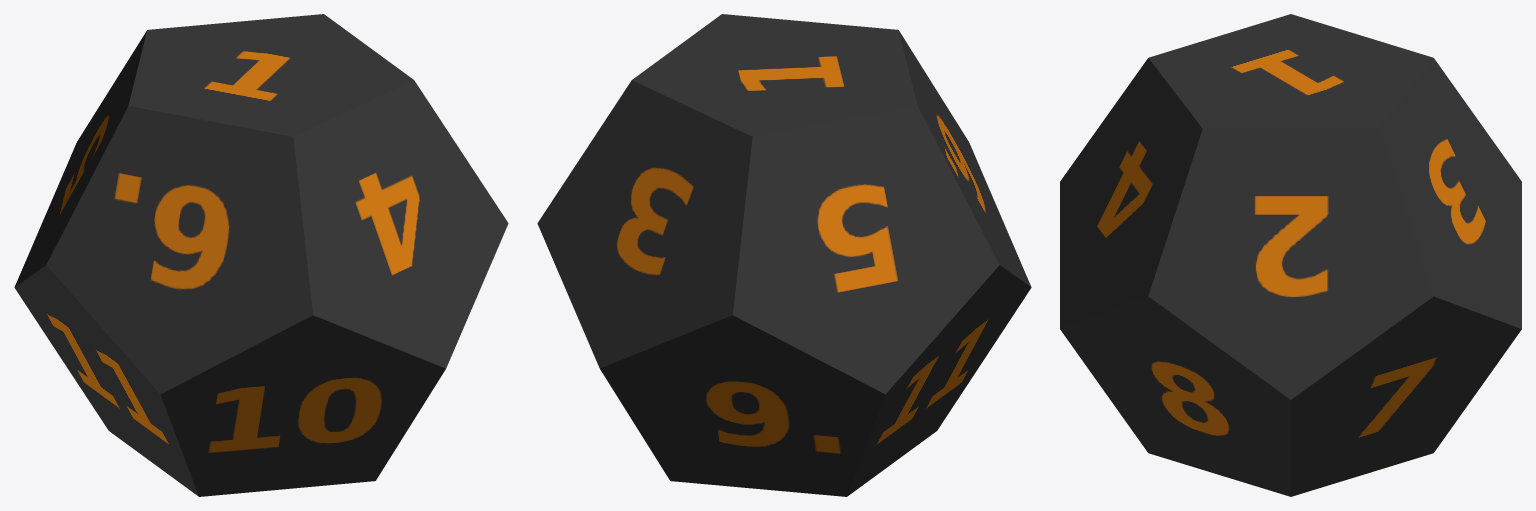
3 renders of one model, left to right at view 1: azimuth 30°, elevation 25°; view 2: azimuth 150°, elevation 25°; view 3: azimuth 270°, elevation 25°, orthographic. The views are drawn at different scales.
Visible parts, largest first — view 1: Hedra02; view 2: Hedra02; view 3: Hedra02.
Boxes of the visible parts, x1=… form: Hedra02: x1=14, y1=14, x2=508, y2=496; Hedra02: x1=537, y1=14, x2=1031, y2=496; Hedra02: x1=1060, y1=14, x2=1521, y2=496.
Bounding box in the file's own units: 78.58 × 63.58 × 74.74.
